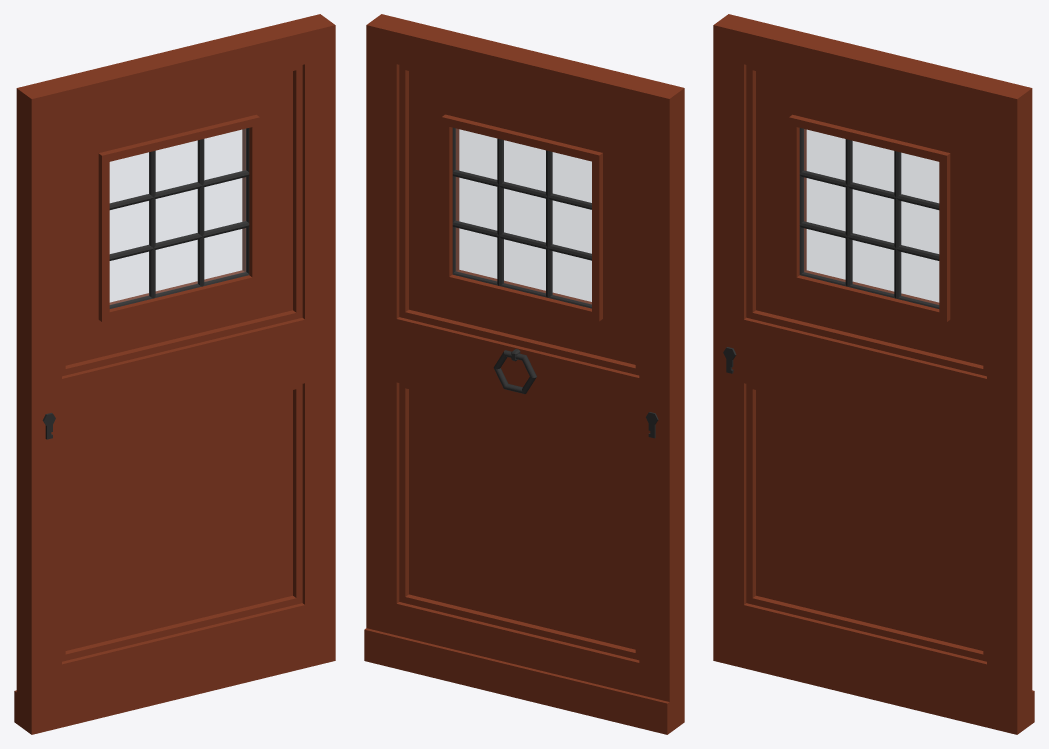
The model's file is entrance door.fbx.
3 views of the same model, side by side, from view 1: azimuth 30°, elevation 25°; view 2: azimuth 150°, elevation 25°; view 3: azimuth 330°, elevation 25° (orthographic).
Parts seen in each view (by area): view 1: porta_ingresso_cucina, vetro; view 2: porta_ingresso_cucina, vetro; view 3: porta_ingresso_cucina, vetro.
Boxes of the visible parts, x1,y1,x2,y2 form: porta_ingresso_cucina: (14, 14, 335, 734); vetro: (110, 129, 245, 304); porta_ingresso_cucina: (364, 14, 684, 734); vetro: (455, 129, 591, 304); porta_ingresso_cucina: (713, 14, 1034, 734); vetro: (804, 129, 938, 304).
Bounding box in the file's own units: 100 × 200 × 11.7.
